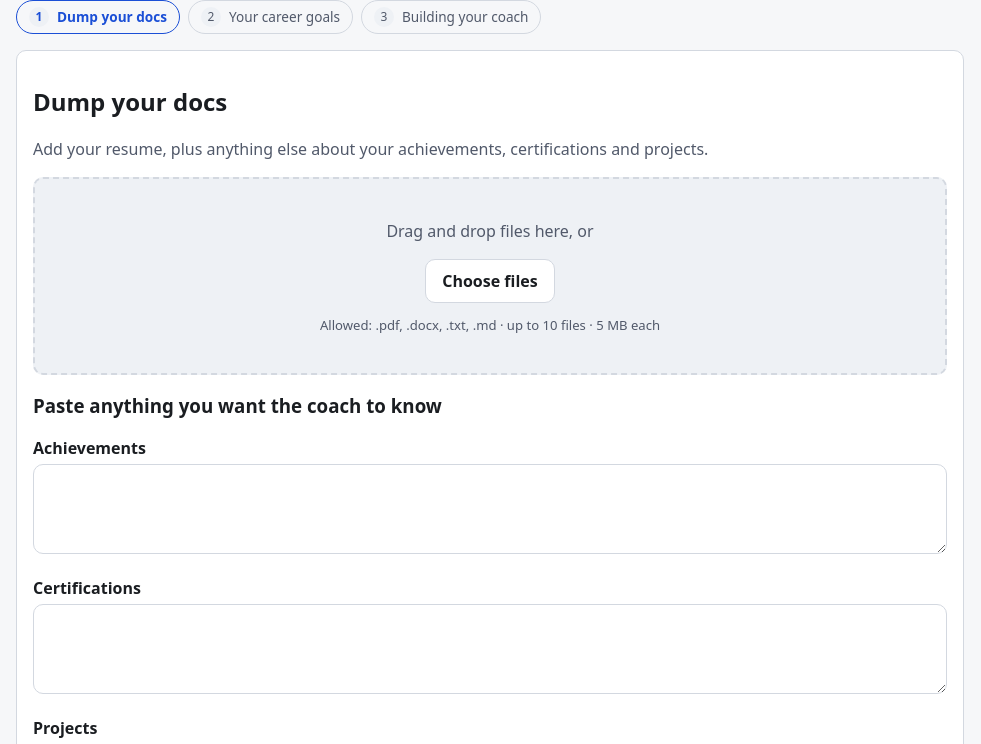
SetupWizard gating › stays disabled with documents but no goals
Type "Won 2nd place at the Fall Hackathon and made the Dean’s List." into the text box labelled "Achievements" at (490, 509), box [33,464,947,554]
(page scrolled)
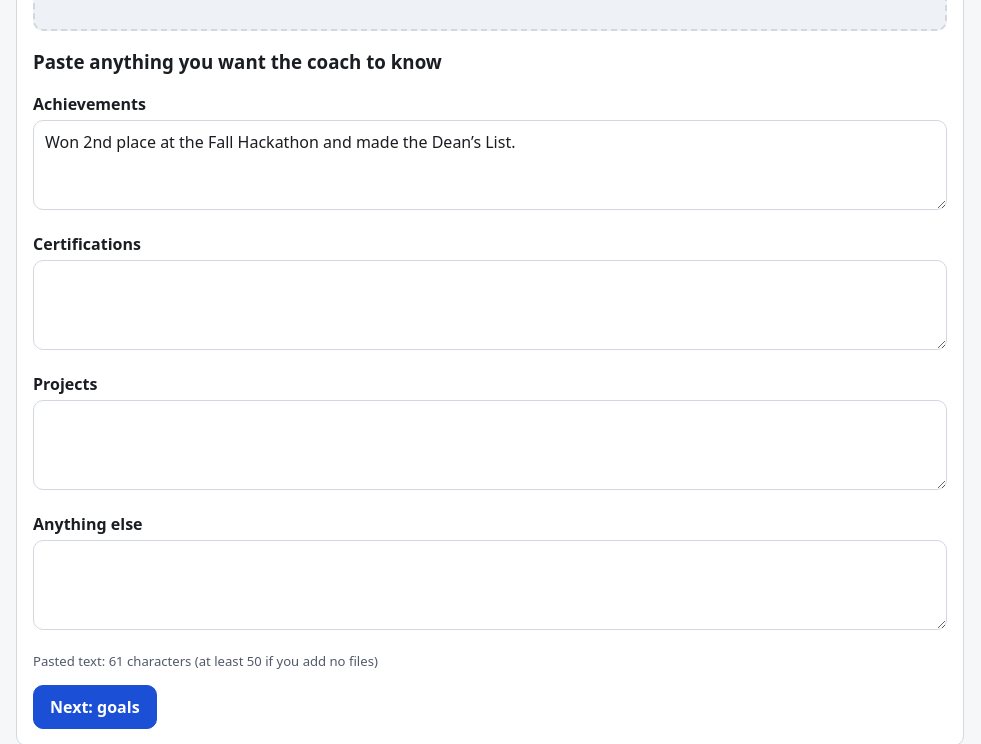
Click the button "Next: goals" at (95, 707), box [33,685,157,729]
(page scrolled)
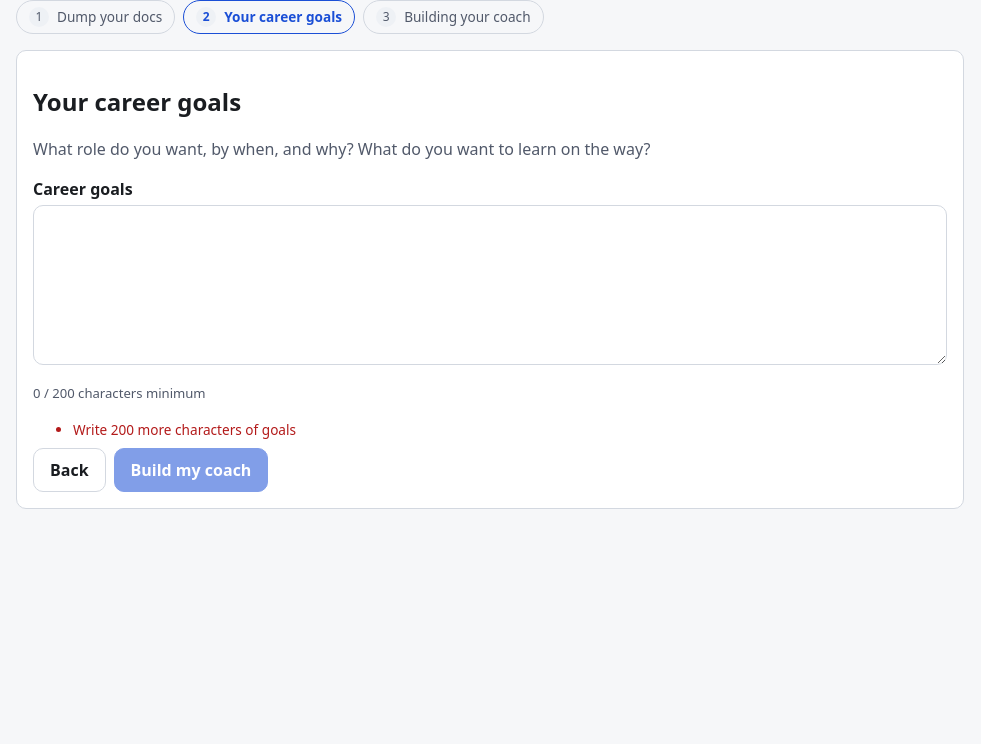
Now the text "0 / 200 characters minimum" is shown, box [33,384,206,402]
Now the button "Build my coach" is disabled, box [114,448,268,492]
